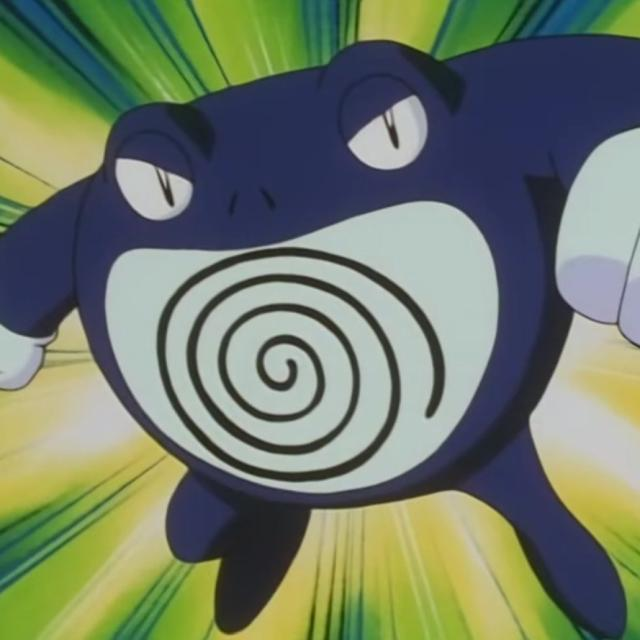Poliwrath: (29, 65, 616, 532)
